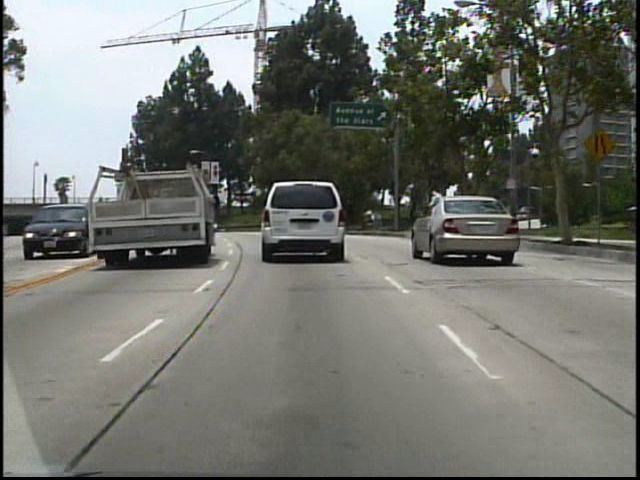person: (473, 192, 491, 241)
